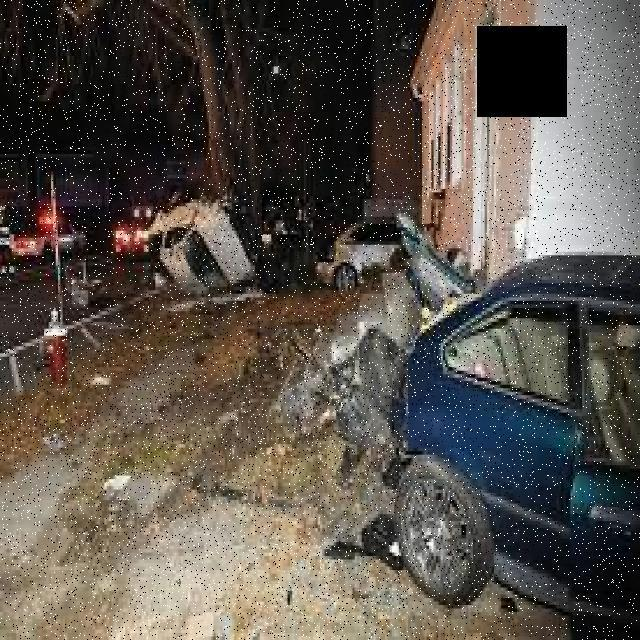severe: (134, 182, 266, 298), (314, 203, 451, 294)
